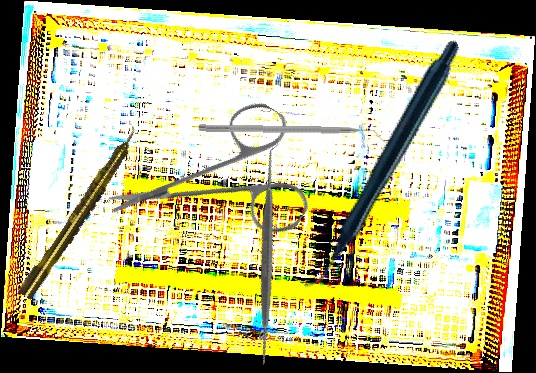Chopper: (197, 124, 387, 145)
Handpiece: (237, 39, 524, 289), (16, 123, 145, 302)
Iris Scissors: (104, 60, 343, 298)
Spatula Surgical: (153, 142, 382, 372)
